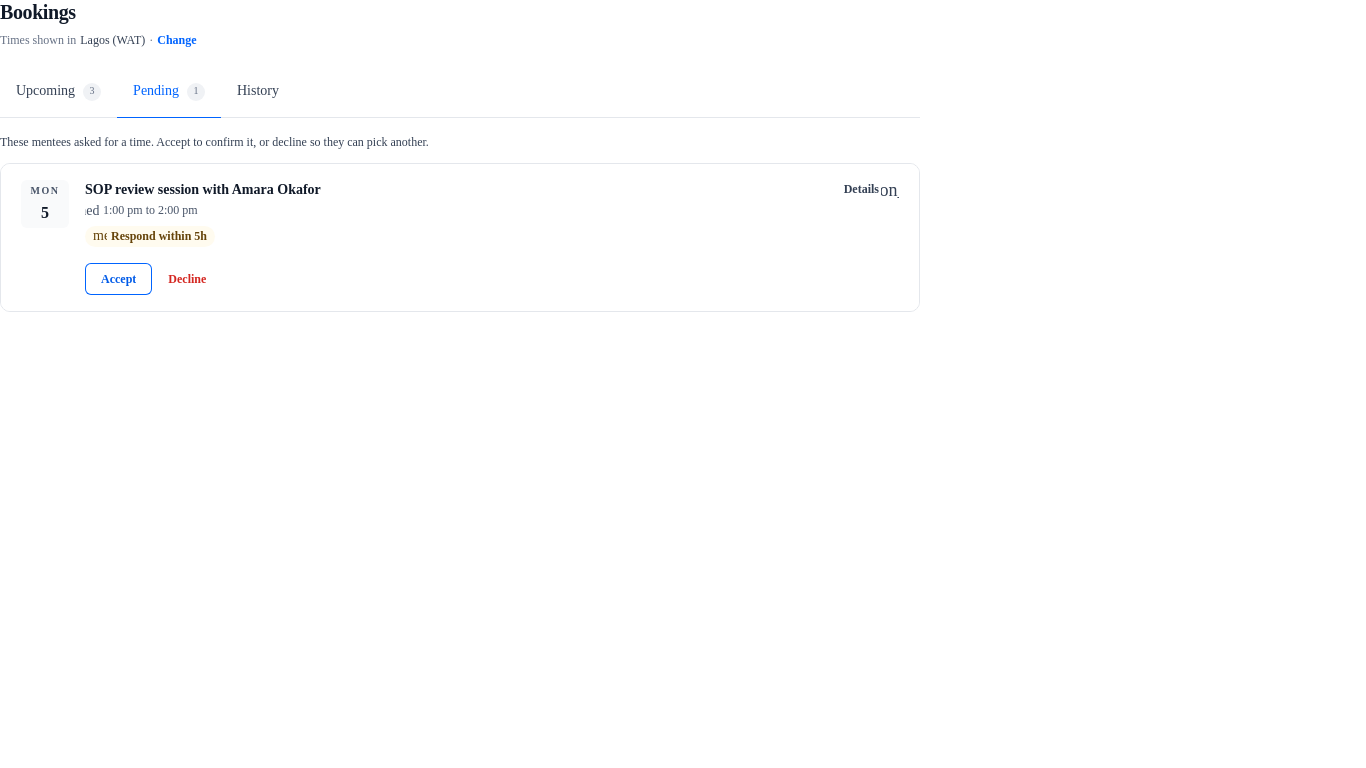
it: the actions appear only where they can succeed › declining asks first, because it cannot be undone
This screenshot has width=1366, height=768.
Click the button "Decline": point(187, 279) [168,271,206,287]
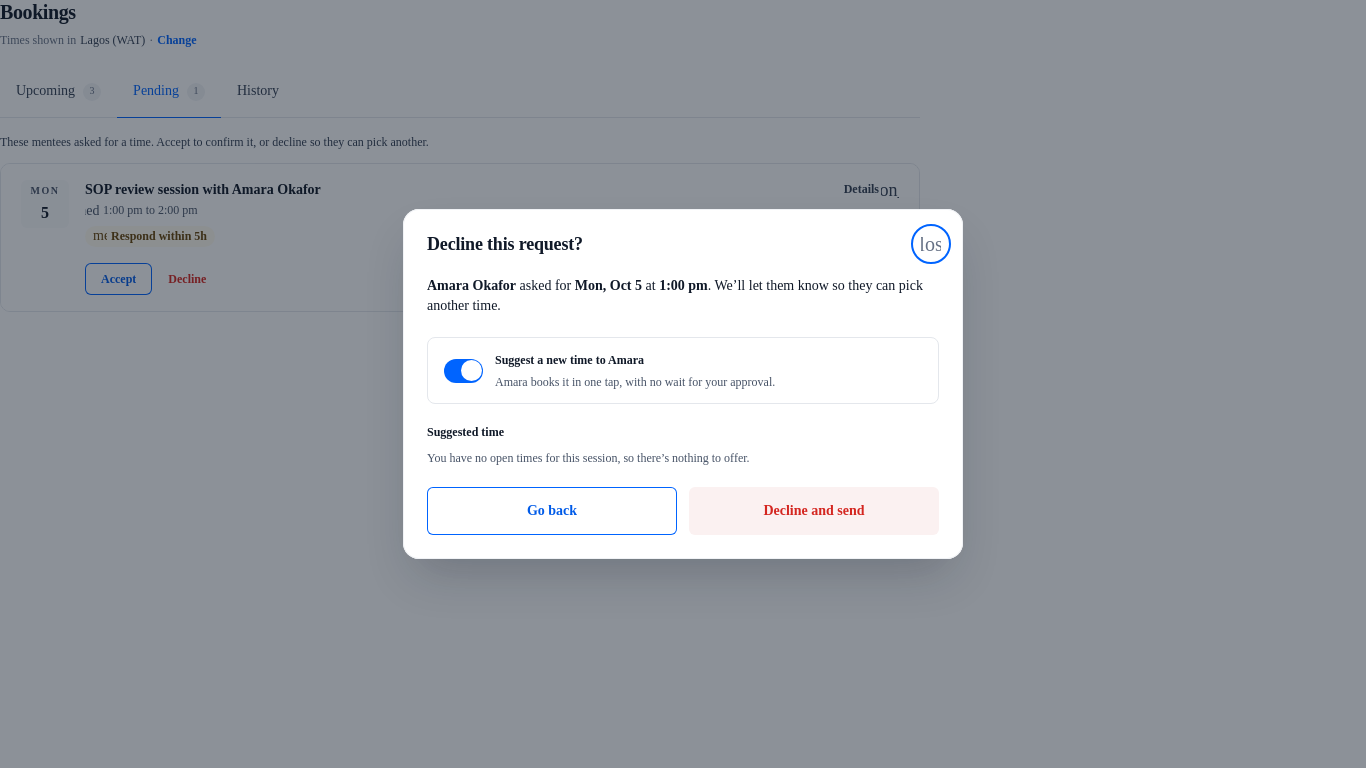
Expected: the dialog "Decline this request?" is shown, [403,209,963,559]
